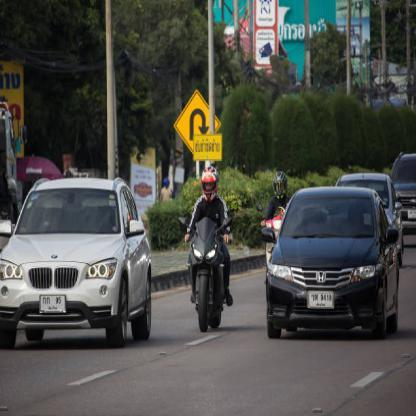Motorcycle: (180, 211, 234, 334)
